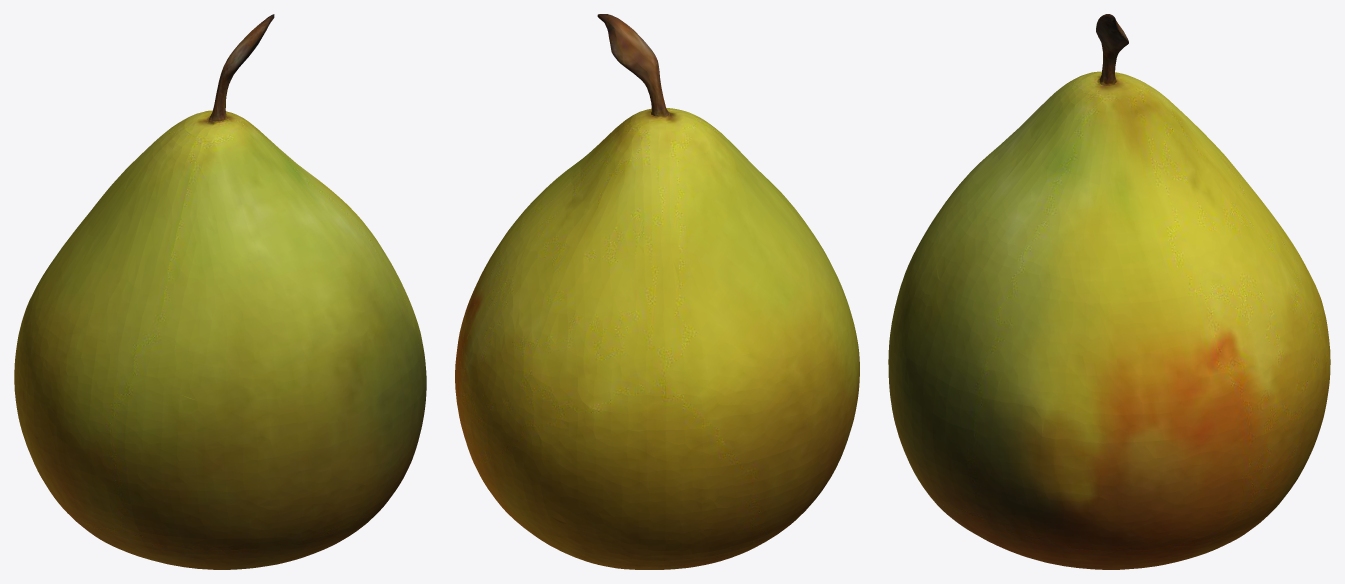
File: large_yellow_pear_in_the_center_000.glb
The picture shows the model from 3 angles, left to right: view 1: azimuth 30°, elevation 25°; view 2: azimuth 150°, elevation 25°; view 3: azimuth 270°, elevation 25°; orthographic projection. The views are drawn at different scales.
Parts seen in each view (by area): view 1: large_yellow_pear_in_the_center_000.obj; view 2: large_yellow_pear_in_the_center_000.obj; view 3: large_yellow_pear_in_the_center_000.obj.
Part boxes in pixels (x1,y1,x2,y2): large_yellow_pear_in_the_center_000.obj: (14,14,426,569); large_yellow_pear_in_the_center_000.obj: (455,14,859,569); large_yellow_pear_in_the_center_000.obj: (888,14,1330,569).
Bounding box in the file's own units: 0.2556 × 0.3511 × 0.2588.
Materials: 1 (1 with a texture image).
